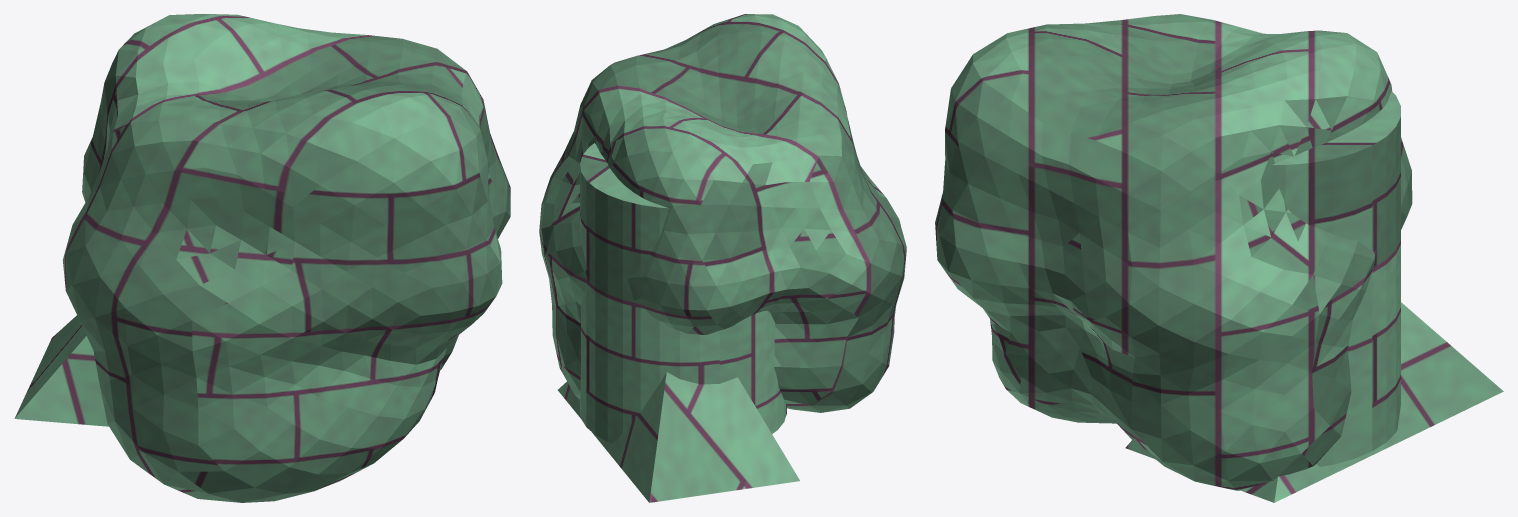
3 renders of one model, left to right at view 1: azimuth 30°, elevation 25°; view 2: azimuth 150°, elevation 25°; view 3: azimuth 270°, elevation 25°, orthographic. The views are drawn at different scales.
Visible parts, largest first — view 1: geometry_0; view 2: geometry_0; view 3: geometry_0.
Boxes of the visible parts, <box> form: geometry_0: <box>14,14,510,502</box>; geometry_0: <box>539,14,906,502</box>; geometry_0: <box>935,14,1503,502</box>.
Bounding box in the file's own units: 1.51 × 1.41 × 1.77.
1 material, 1 textured.
